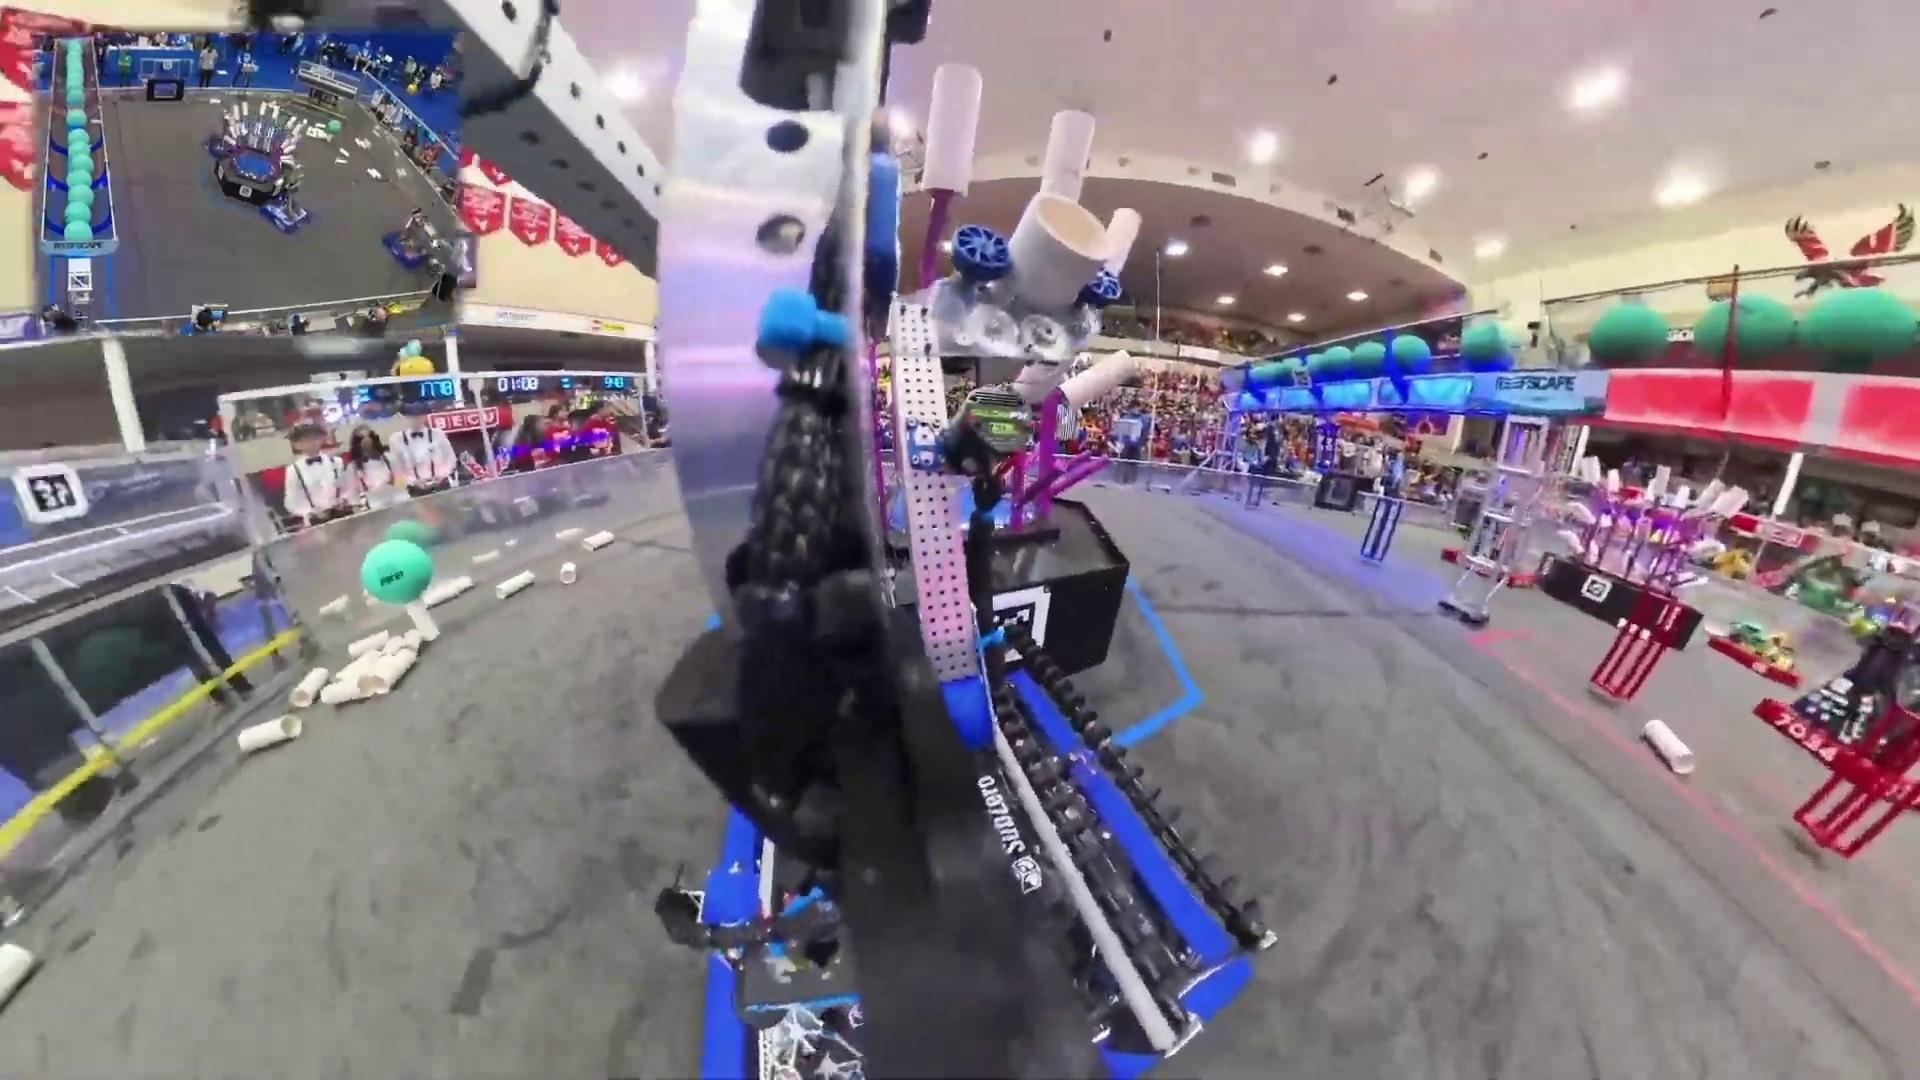robot: (1755, 622, 1920, 807), (1441, 509, 1536, 589), (1709, 620, 1801, 683), (384, 207, 443, 269), (258, 164, 310, 235)
